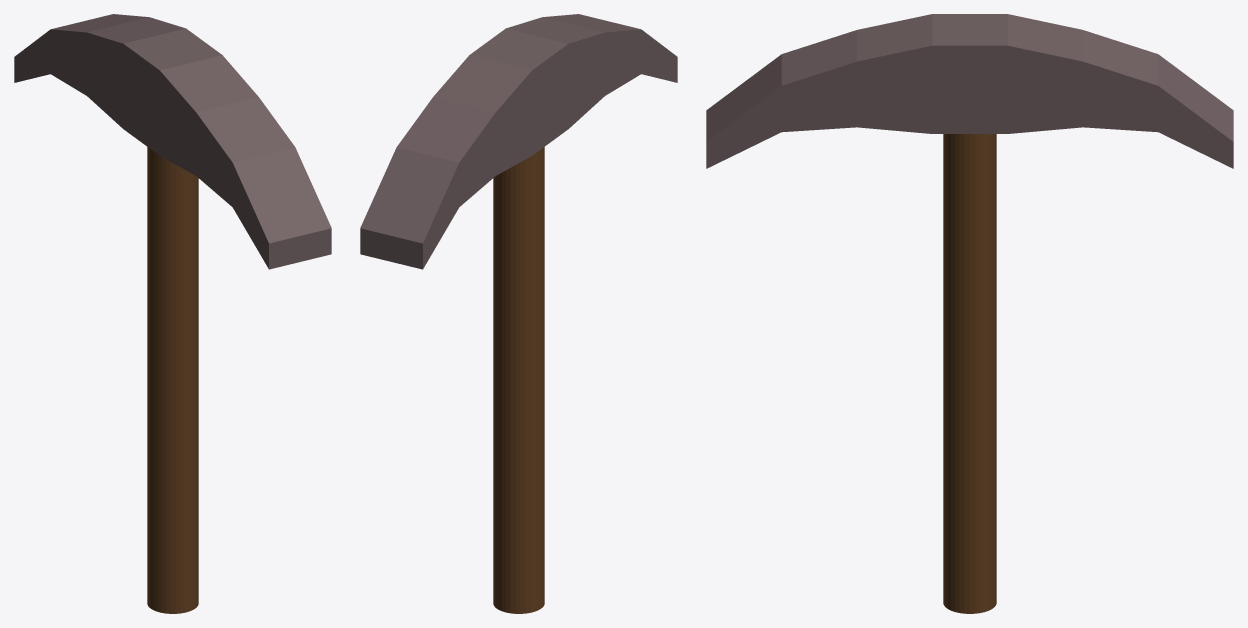
The model's file is Mining Pick FBX.fbx.
3 renders of one model, left to right at view 1: azimuth 30°, elevation 25°; view 2: azimuth 150°, elevation 25°; view 3: azimuth 270°, elevation 25°, orthographic. The views are drawn at different scales.
Visible parts, largest first — view 1: Cylinder; view 2: Cylinder; view 3: Cylinder.
Part boxes in pixels (<box>): Cylinder: <box>14,14,331,613</box>; Cylinder: <box>360,14,677,613</box>; Cylinder: <box>706,14,1233,613</box>.
Bounding box in the file's own units: 14 × 118 × 98.5.
